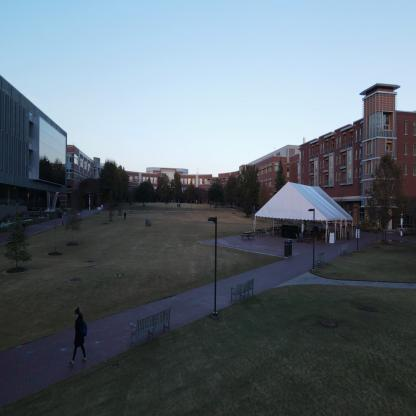EB-1: (67, 135, 102, 226)
Fitts- Woolard: (2, 64, 67, 272)
Wolf Ridge: (292, 64, 415, 245)
